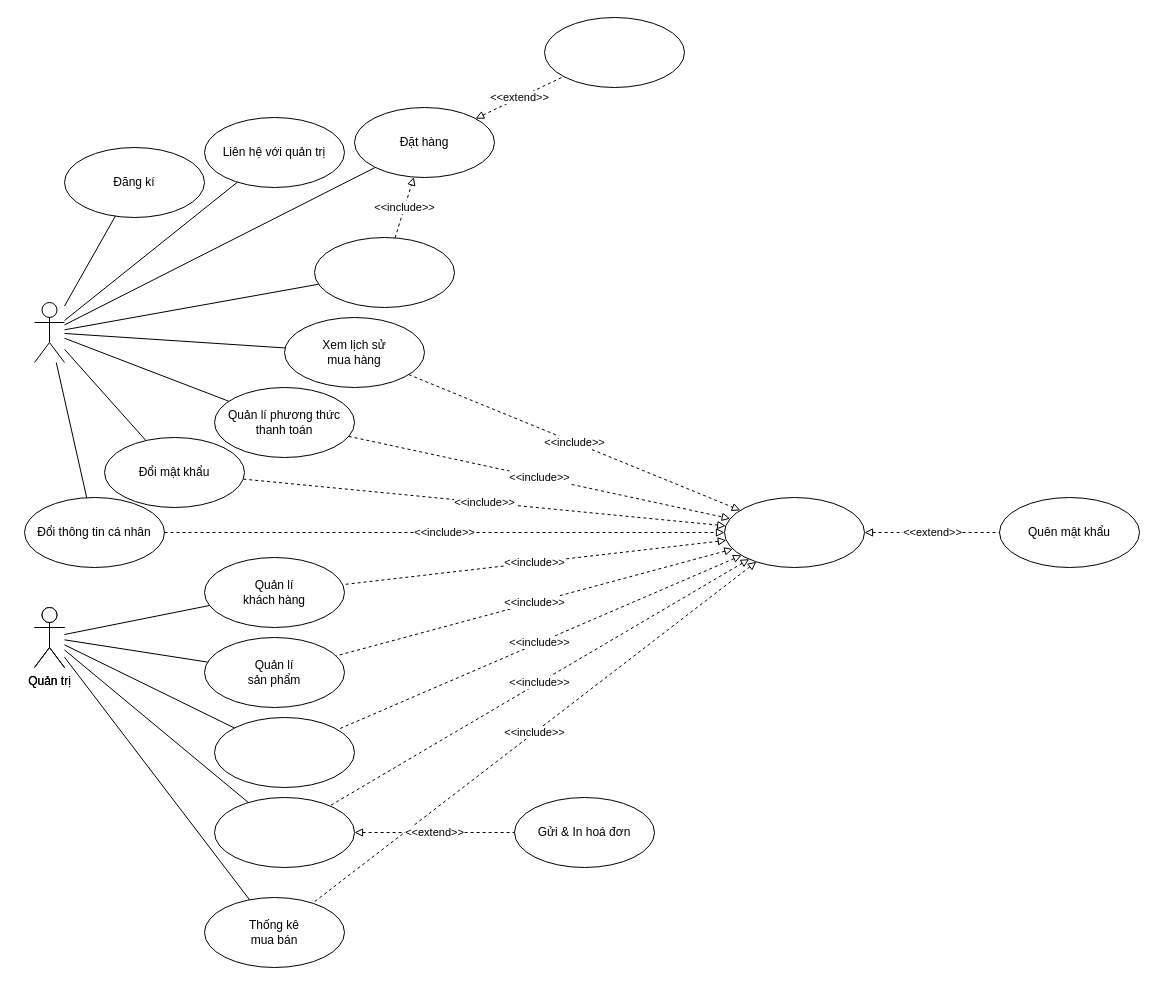
Some shapes in this 1157 by 985 pixel diagram are drawn without their labels. The centre of each missing label's shape, as x and y in pixels:
"Khách hàng" belongs at (49,332).
"Quản lí giỏ hàng" belongs at (614,52).
"Quản lí hoá đơn" belongs at (284,832).
"Quản lí đơn hàng" belongs at (284,752).
"Thanh toán" belongs at (384,272).
"Đăng nhập" belongs at (794,532).
